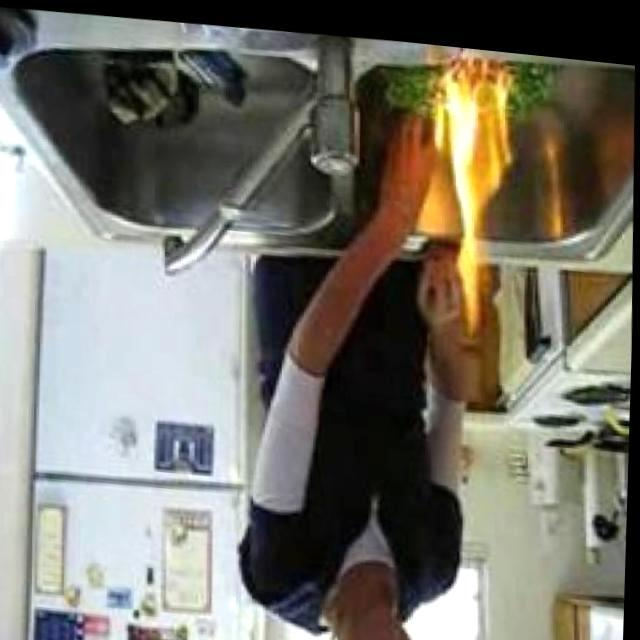fire: (431, 55, 517, 317)
